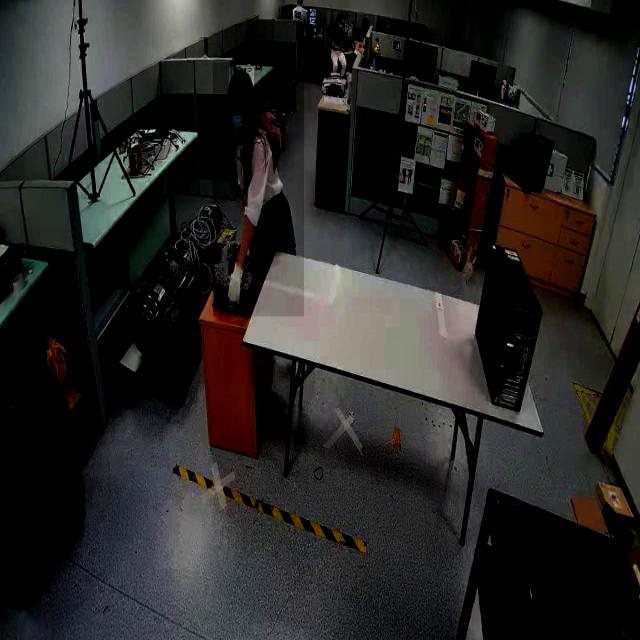face_mask: (227, 103, 246, 133), (337, 13, 343, 35)
hand_glove: (226, 257, 248, 314)
head_nohelmet: (229, 67, 254, 93), (339, 12, 346, 18)
person: (212, 62, 304, 318), (326, 12, 346, 78)
